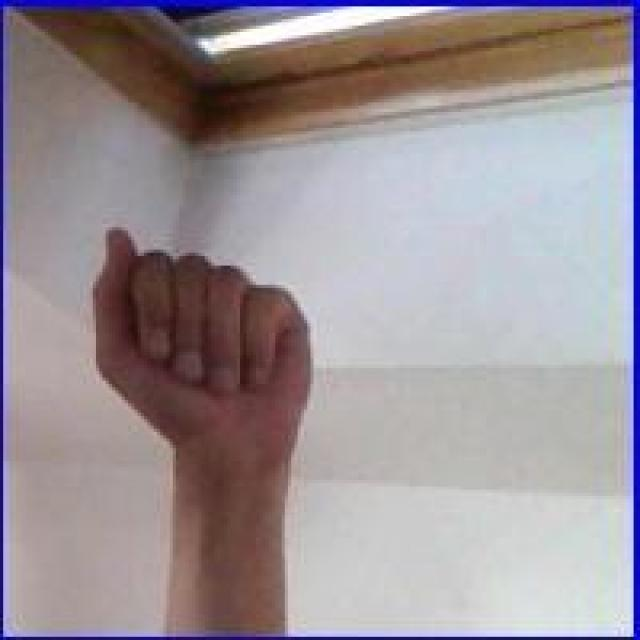A: (85, 218, 318, 477)
